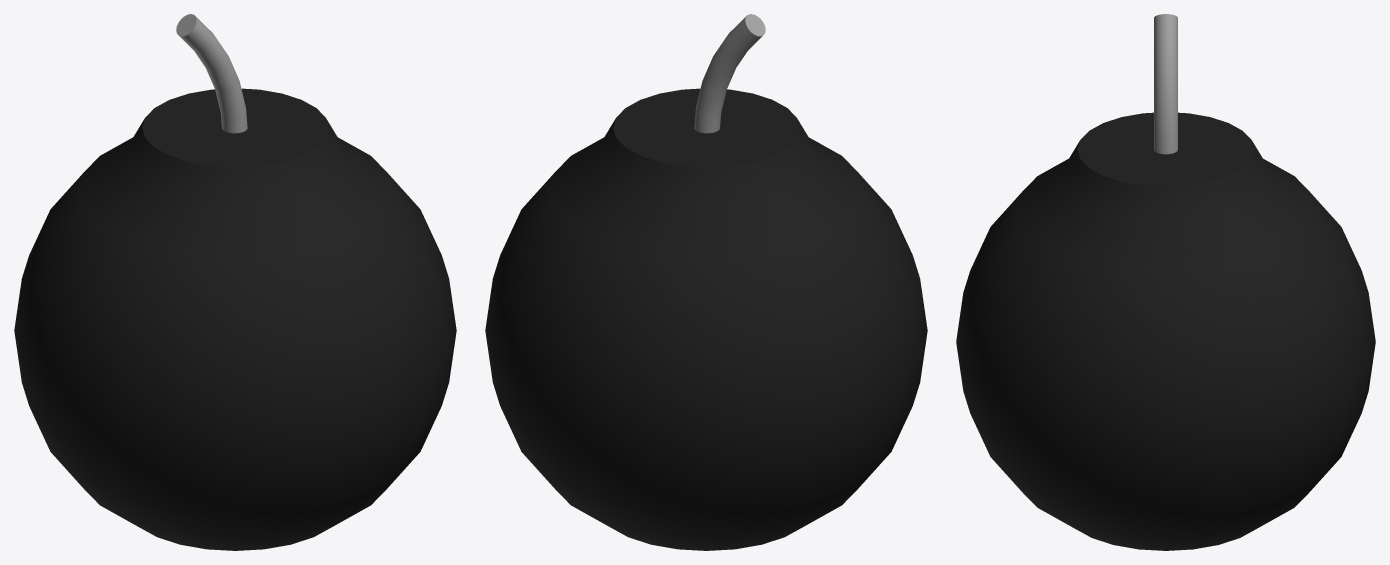
File: Bomb.obj
3 views of the same model, side by side, from view 1: azimuth 30°, elevation 25°; view 2: azimuth 150°, elevation 25°; view 3: azimuth 270°, elevation 25° (orthographic). The views are drawn at different scales.
Parts seen in each view (by area): view 1: Sphere01, Cylinder01; view 2: Sphere01, Cylinder01; view 3: Sphere01, Cylinder01.
Boxes of the visible parts, x1,y1,x2,y2 form: Sphere01: (14, 88, 456, 550); Cylinder01: (176, 14, 247, 133); Sphere01: (485, 88, 927, 550); Cylinder01: (694, 14, 765, 133); Sphere01: (956, 112, 1375, 550); Cylinder01: (1154, 14, 1177, 154).
Bounding box in the file's own units: 2.52 × 3.31 × 2.52.
